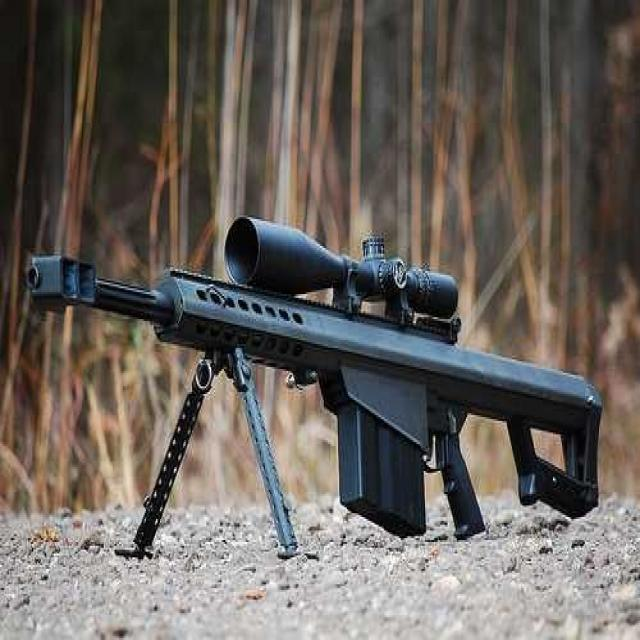weapon: (12, 206, 604, 552)
